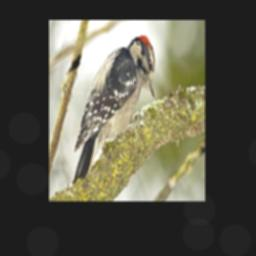Woodpecker: (65, 32, 155, 189)
